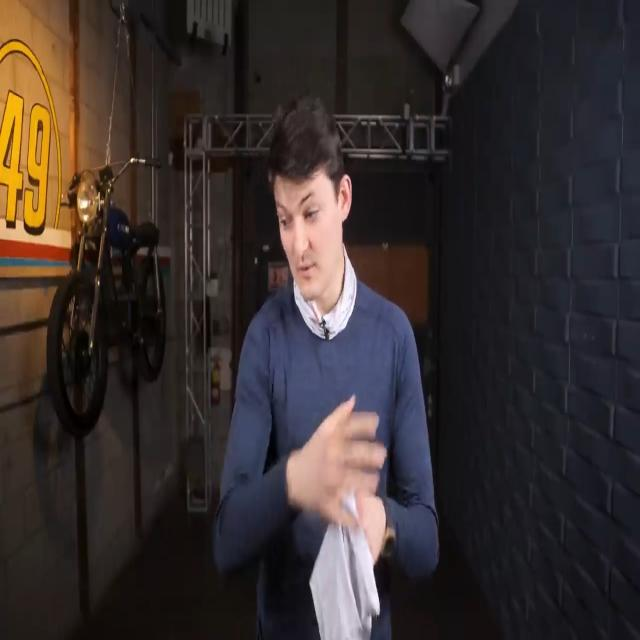Person: (202, 97, 432, 640)
